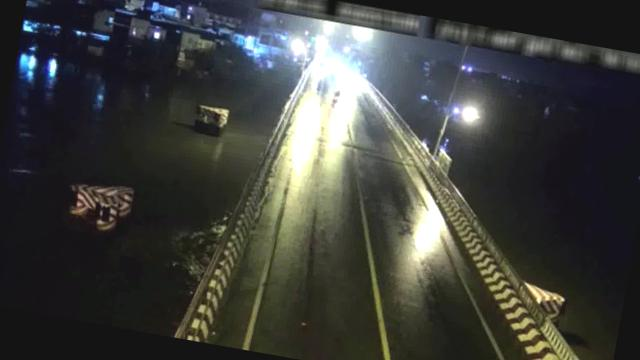Bike: (330, 89, 341, 108)
